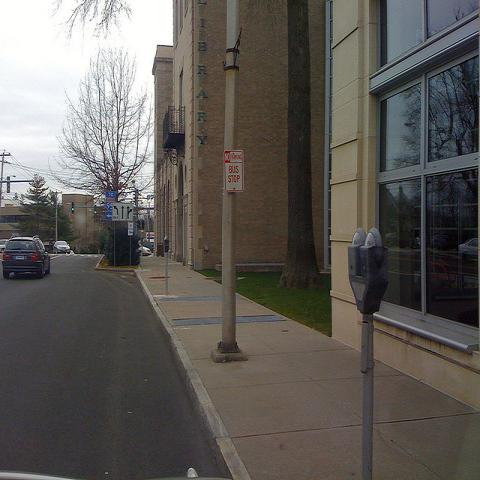car: (2, 234, 52, 280), (52, 241, 70, 254), (138, 242, 152, 256), (0, 239, 9, 253)
